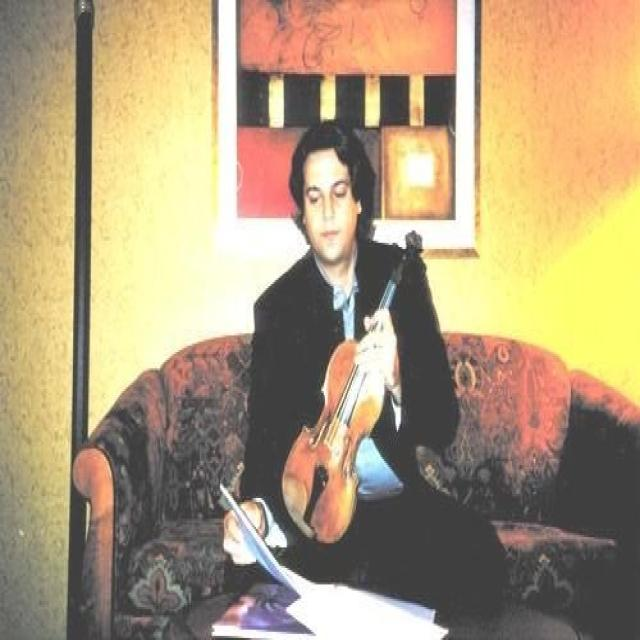violin: (282, 229, 424, 545)
